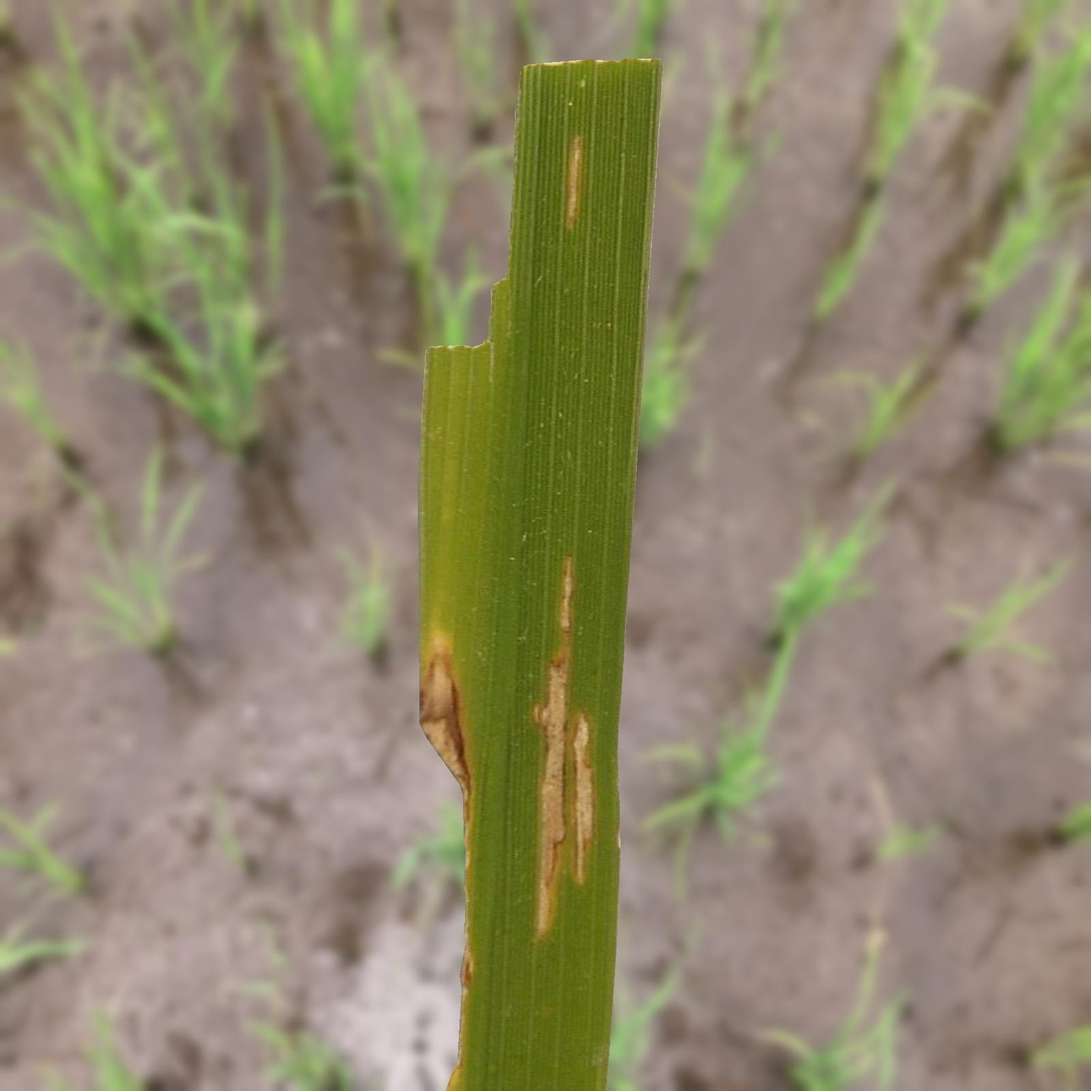BLS: (534, 556, 573, 938), (573, 713, 593, 884), (565, 135, 582, 228)
LEAF: (418, 59, 663, 1090)
